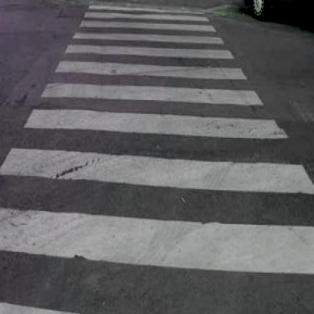Paso de Cebra: (0, 147, 314, 280), (9, 79, 293, 138), (58, 31, 244, 63), (77, 3, 216, 25)
